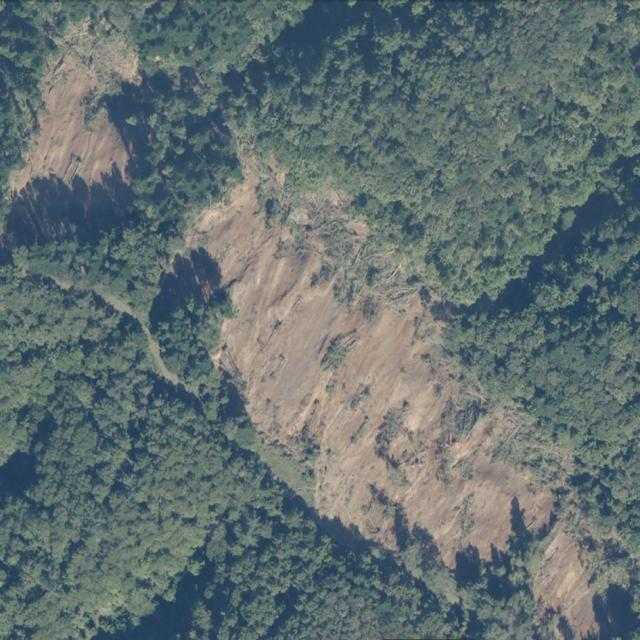landslide: (184, 150, 599, 639), (1, 18, 142, 247)
